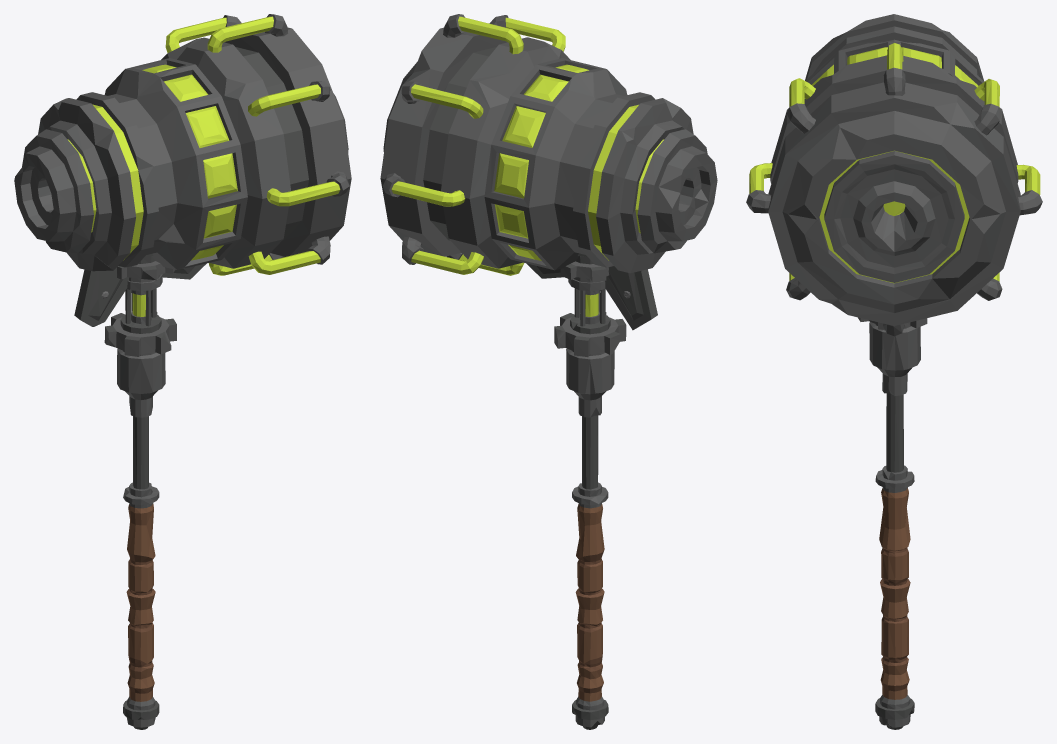
The model's file is SFML_War_Hammer_001.fbx.
The picture shows the model from 3 angles, left to right: view 1: azimuth 30°, elevation 25°; view 2: azimuth 150°, elevation 25°; view 3: azimuth 270°, elevation 25°; orthographic projection. The views are drawn at different scales.
Parts seen in each view (by area): view 1: SFML_War_Hammer_001; view 2: SFML_War_Hammer_001; view 3: SFML_War_Hammer_001.
Part boxes in pixels (bbox=[...]): SFML_War_Hammer_001: bbox=[14, 14, 351, 729]; SFML_War_Hammer_001: bbox=[380, 14, 717, 729]; SFML_War_Hammer_001: bbox=[746, 14, 1042, 729].
Bounding box in the file's own units: 67.71 × 160 × 58.99.
